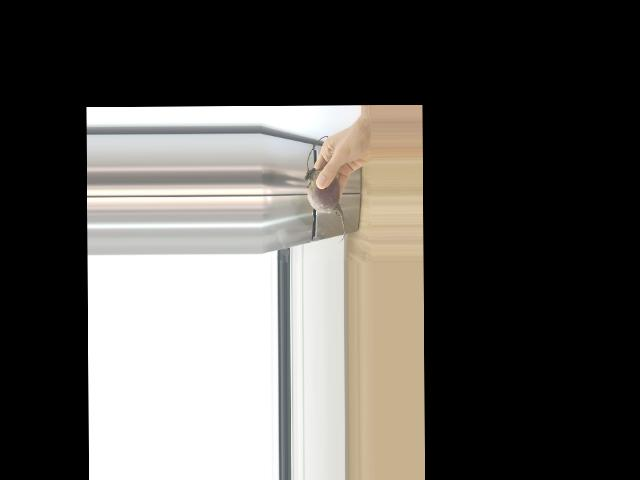beet: (304, 136, 345, 243)
